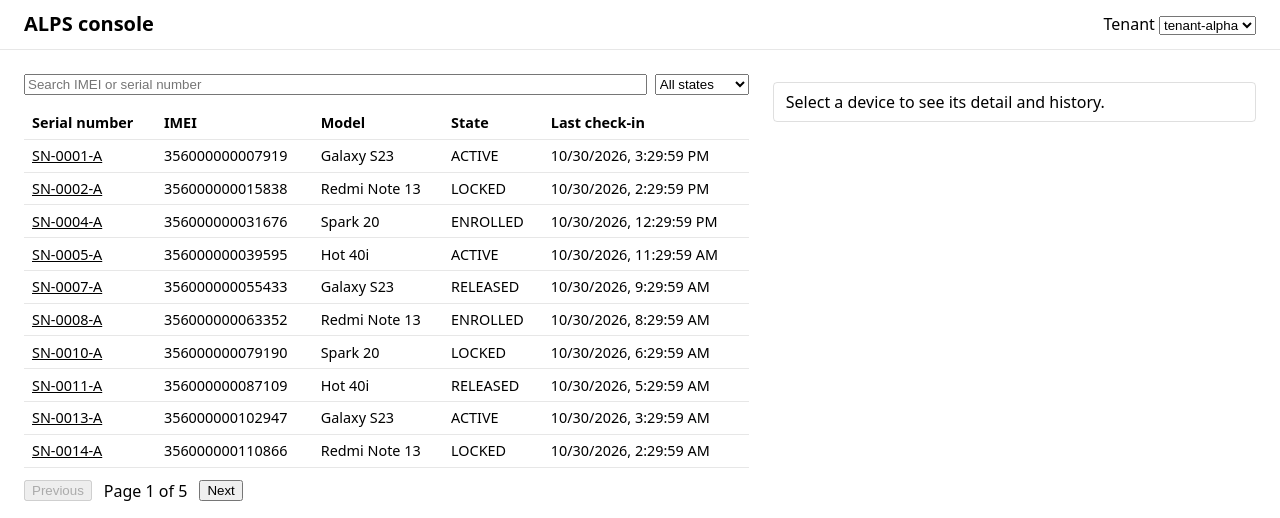
Test case: Device console › pages through the list, and changing a filter goes back to the first page
Expected: the table named "Device list" is shown, [24, 107, 749, 468]
Click the button "Next". click: (221, 491)
box: [199, 480, 243, 501]
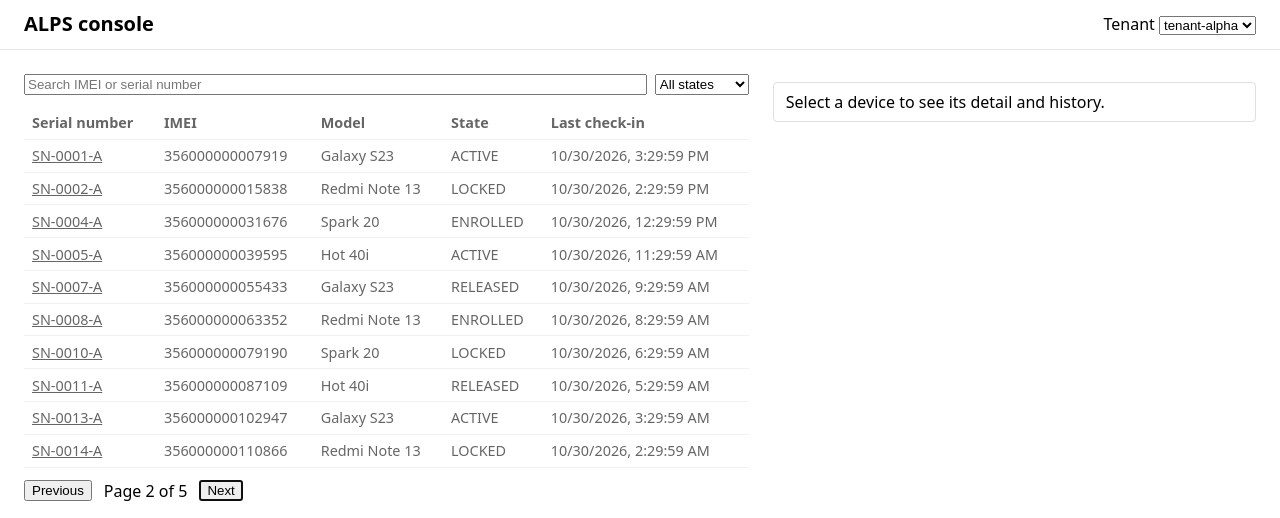
Expected: the text "Page 2 of 5" is shown, [104, 480, 187, 502]
Expected: the button "Previous" is enabled, [24, 480, 92, 501]
Select "LOCKED" in the dropdown named "Filter by state". click: (702, 84)
box: [655, 74, 749, 95]
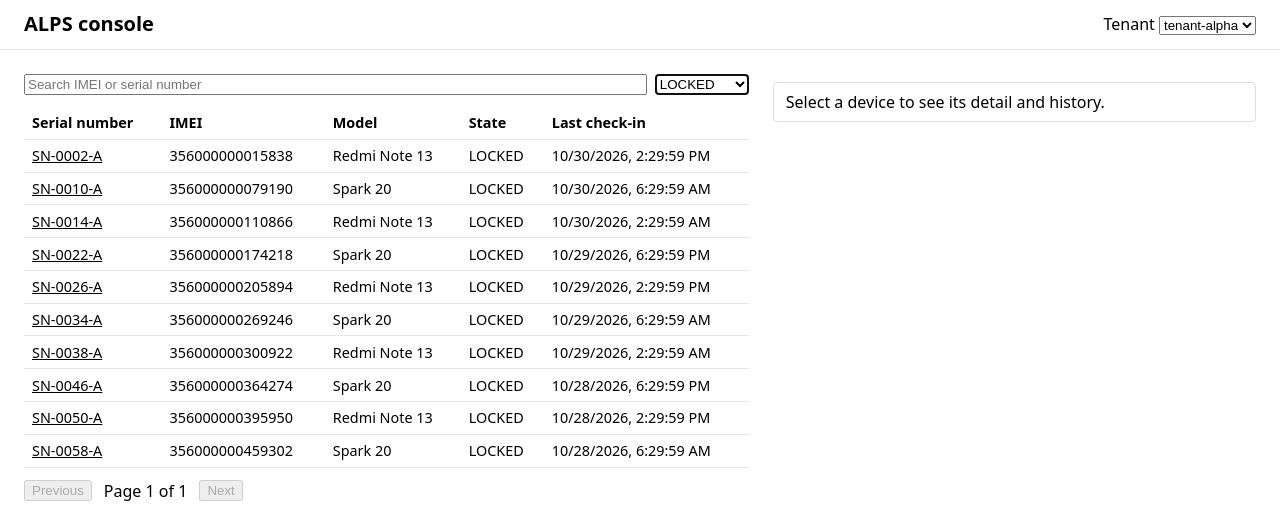
Expected: the text "Page 1 of 1" is shown, [104, 480, 187, 502]
Expected: the text "LOCKED" in the row of "356000000174218" is shown, [469, 244, 524, 264]
Expected: the text "LOCKED" in the row of "356000000205894" is shown, [469, 277, 524, 296]
